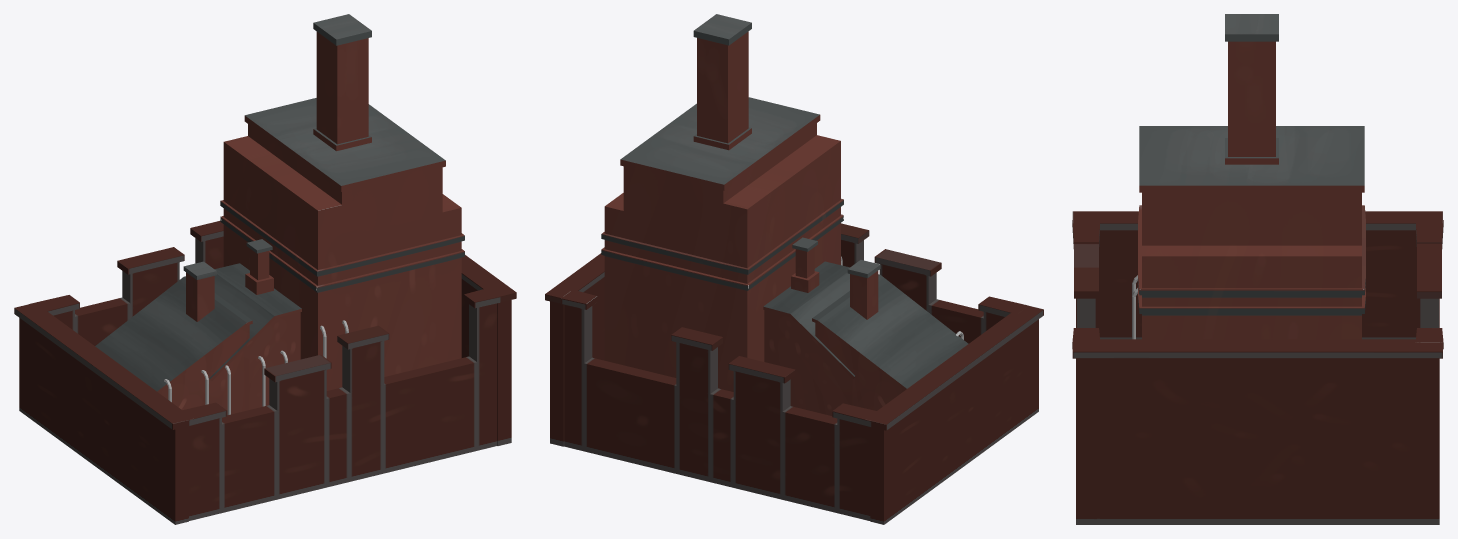
The model's file is Factory.FBX.
3 renders of one model, left to right at view 1: azimuth 30°, elevation 25°; view 2: azimuth 150°, elevation 25°; view 3: azimuth 270°, elevation 25°, orthographic. The views are drawn at different scales.
Parts seen in each view (by area): view 1: factory; view 2: factory; view 3: factory.
Part boxes in pixels (bbox=[...]): factory: bbox=[14, 14, 516, 524]; factory: bbox=[545, 14, 1043, 524]; factory: bbox=[1072, 14, 1443, 524].
Bounding box in the file's own units: 27.03 × 21.65 × 28.82.
